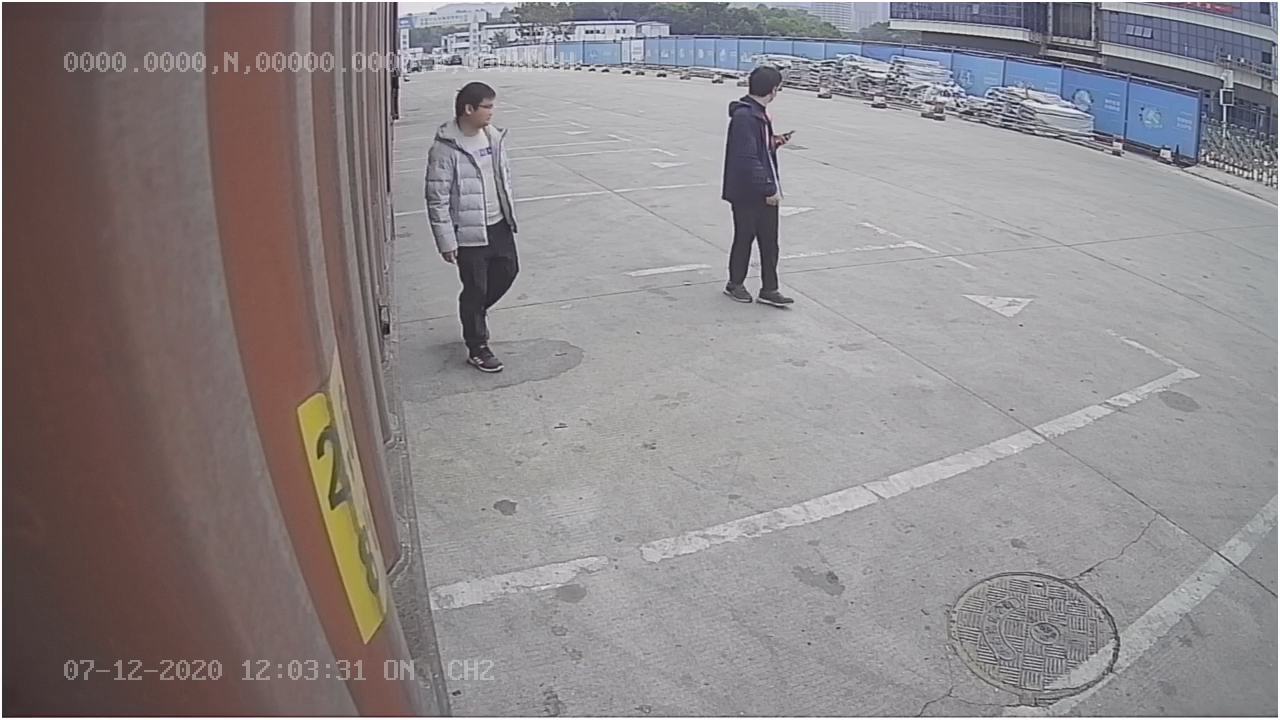person: (424, 75, 533, 379), (709, 63, 804, 307)
